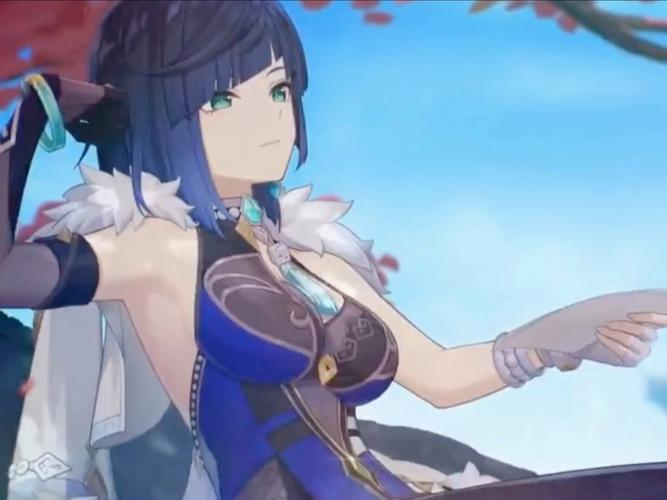夜兰: (1, 4, 660, 500)
